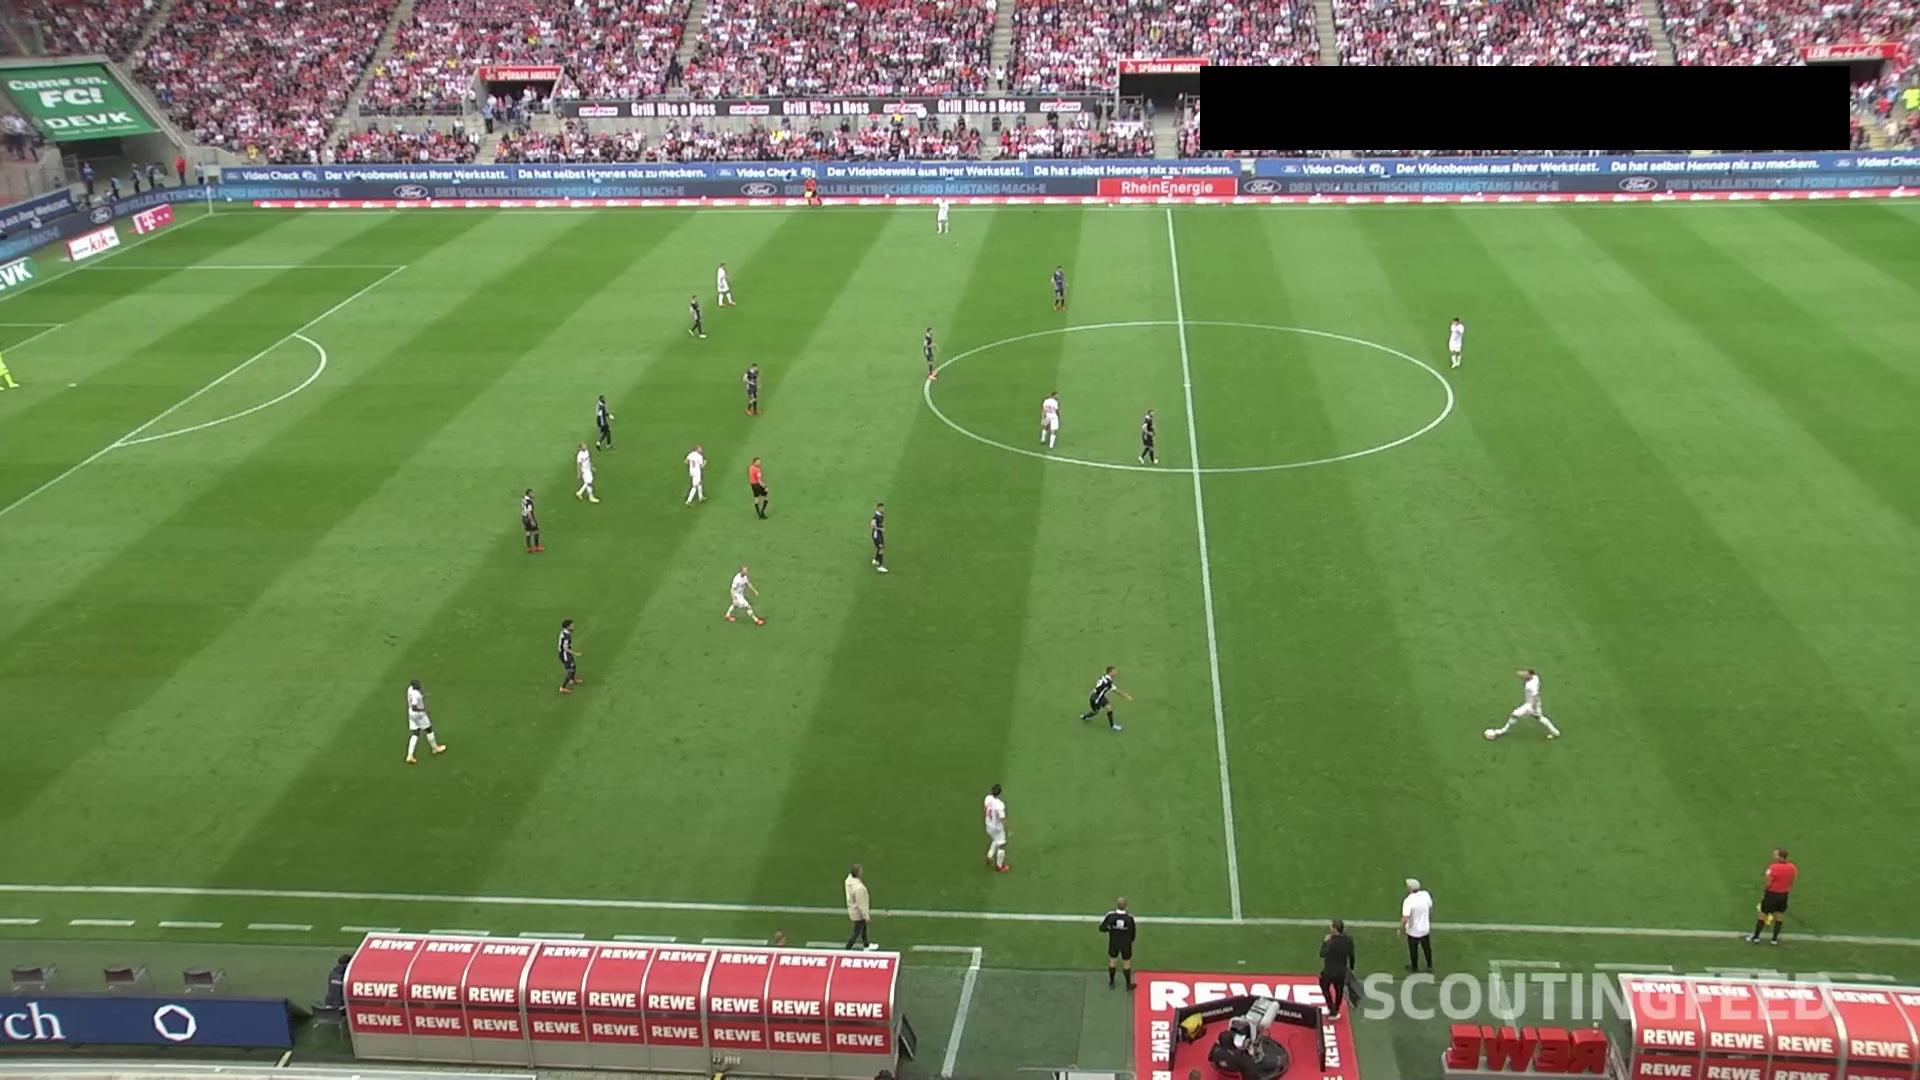Location-of-ball: (1477, 724, 1505, 752)
